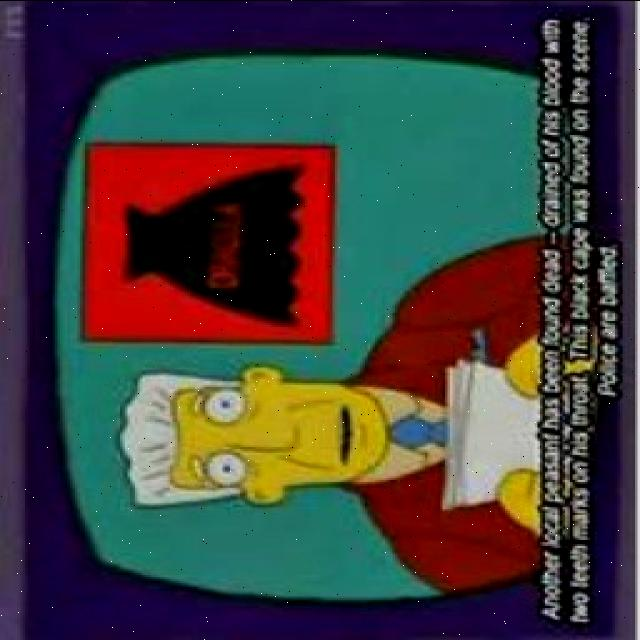Kent Brockman: (118, 358, 392, 511)
